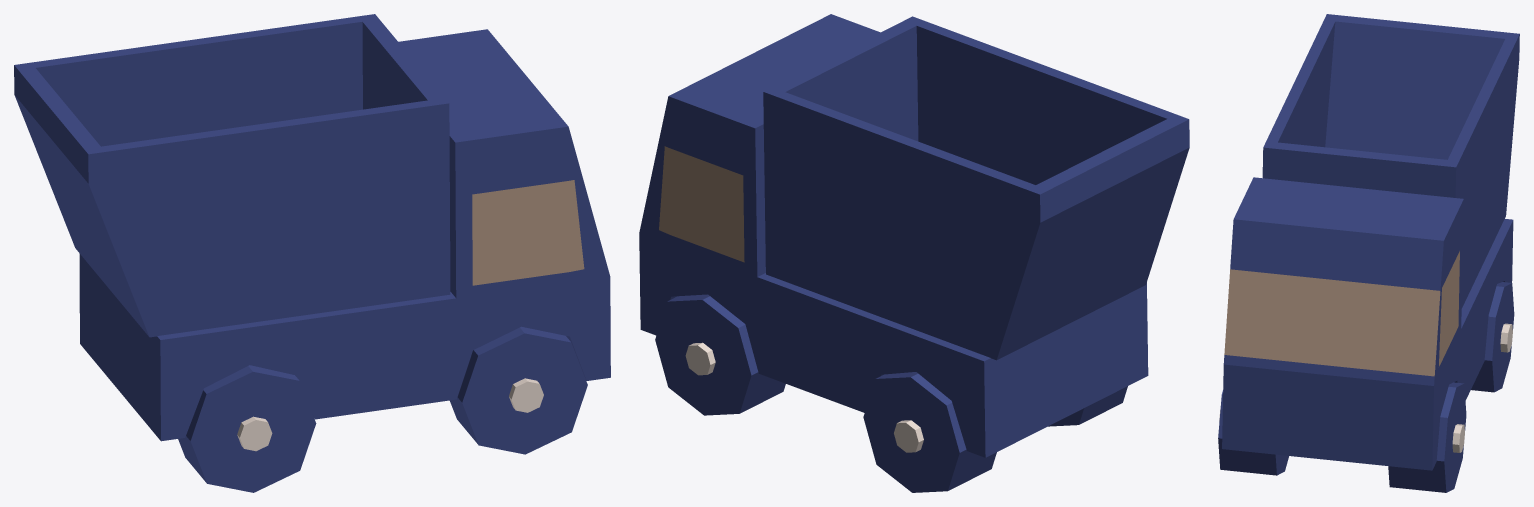
The model's file is Playground_chil_car1.fbx.
3 renders of one model, left to right at view 1: azimuth 30°, elevation 25°; view 2: azimuth 150°, elevation 25°; view 3: azimuth 270°, elevation 25°, orthographic. The views are drawn at different scales.
Parts seen in each view (by area): view 1: Playground_chil_car1; view 2: Playground_chil_car1; view 3: Playground_chil_car1.
Part boxes in pixels (x1=…): Playground_chil_car1: x1=14, y1=14, x2=610, y2=492; Playground_chil_car1: x1=639, y1=14, x2=1189, y2=492; Playground_chil_car1: x1=1218, y1=14, x2=1519, y2=492.
Size of the model in its own units: 42.74 by 28.69 by 26.2.
